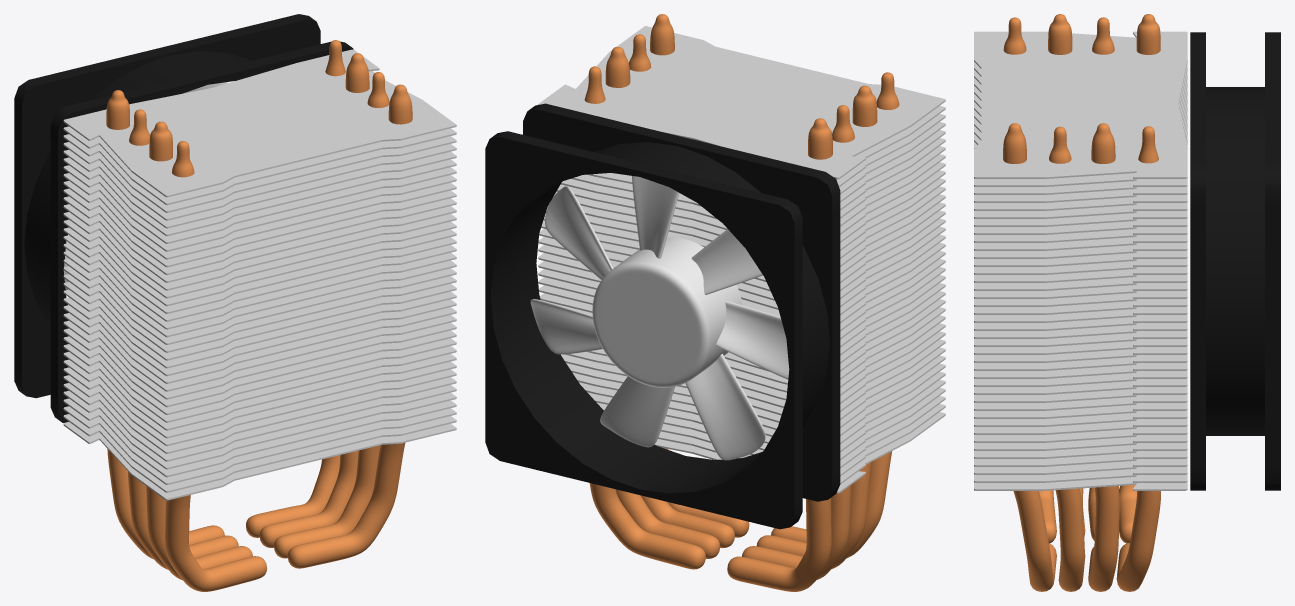
Rendered from cooler.fbx.
3 renders of one model, left to right at view 1: azimuth 30°, elevation 25°; view 2: azimuth 150°, elevation 25°; view 3: azimuth 270°, elevation 25°, orthographic. The views are drawn at different scales.
Parts seen in each view (by area): view 1: Plane, Plane.005, Plane.001, Plane.002; view 2: Plane, Plane.001, Plane.003, Plane.005, Plane.002; view 3: Plane, Plane.002, Plane.005, Plane.001.
Part boxes in pixels (bbox=[...]): Plane: bbox=[63, 49, 456, 500]; Plane.005: bbox=[106, 40, 412, 591]; Plane.001: bbox=[14, 14, 353, 422]; Plane.002: bbox=[24, 51, 251, 325]; Plane: bbox=[538, 26, 945, 493]; Plane.001: bbox=[485, 103, 840, 529]; Plane.003: bbox=[530, 176, 789, 460]; Plane.005: bbox=[584, 14, 899, 591]; Plane.002: bbox=[497, 142, 829, 487]; Plane: bbox=[974, 31, 1187, 490]; Plane.002: bbox=[1206, 87, 1264, 435]; Plane.005: bbox=[1003, 14, 1160, 591]; Plane.001: bbox=[1190, 32, 1280, 490].
Bounding box in the file's own units: 293 × 442 × 253.
